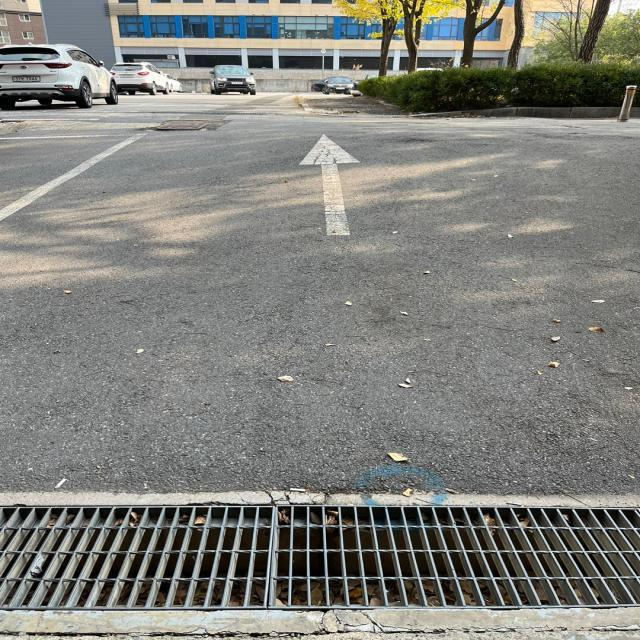forward: (179, 124, 484, 302)
